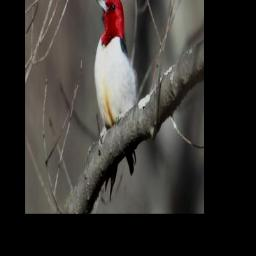Woodpecker: (92, 0, 139, 206)
